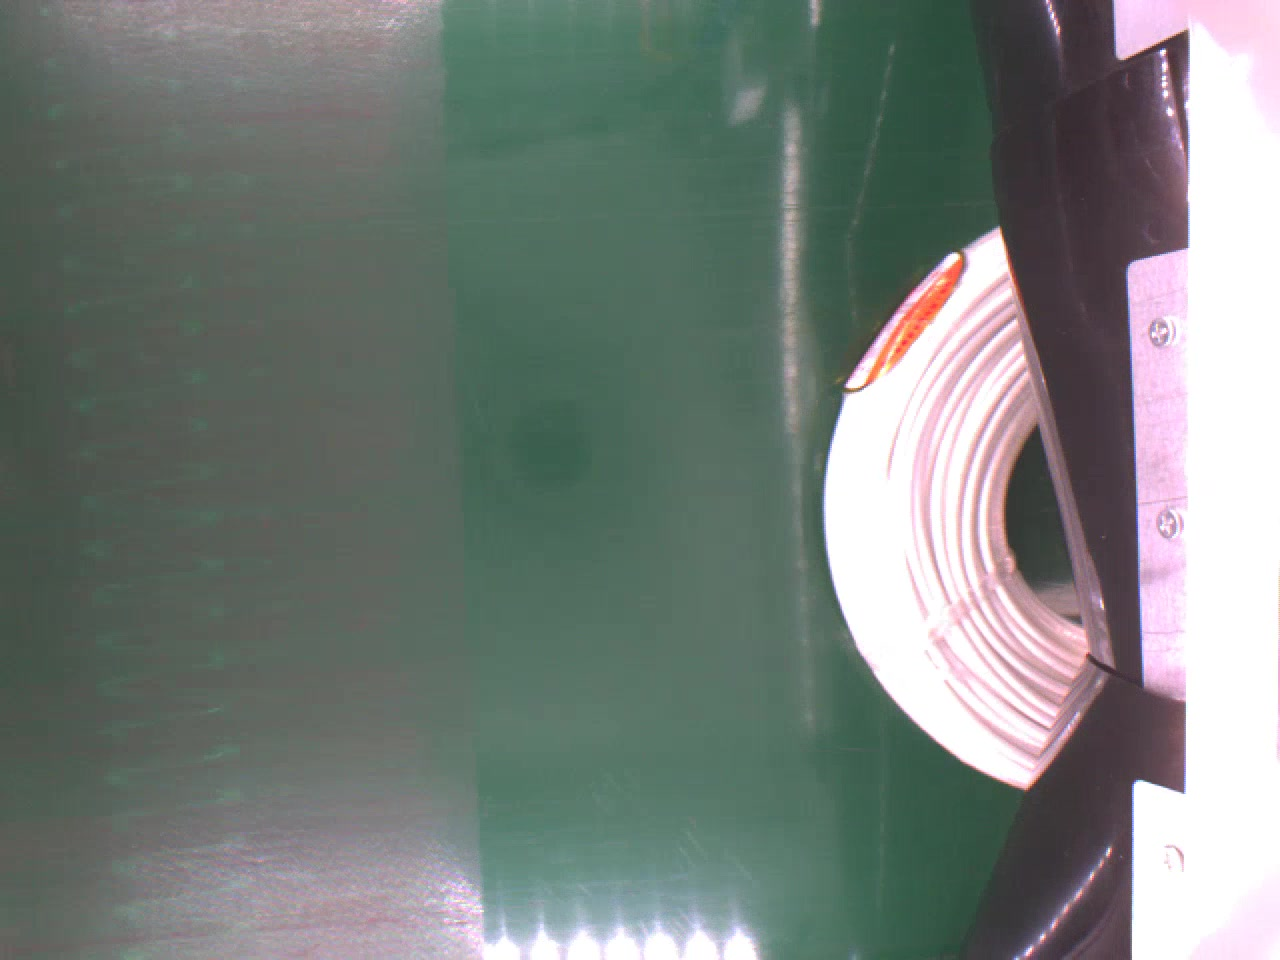white: (817, 222, 1082, 785)
